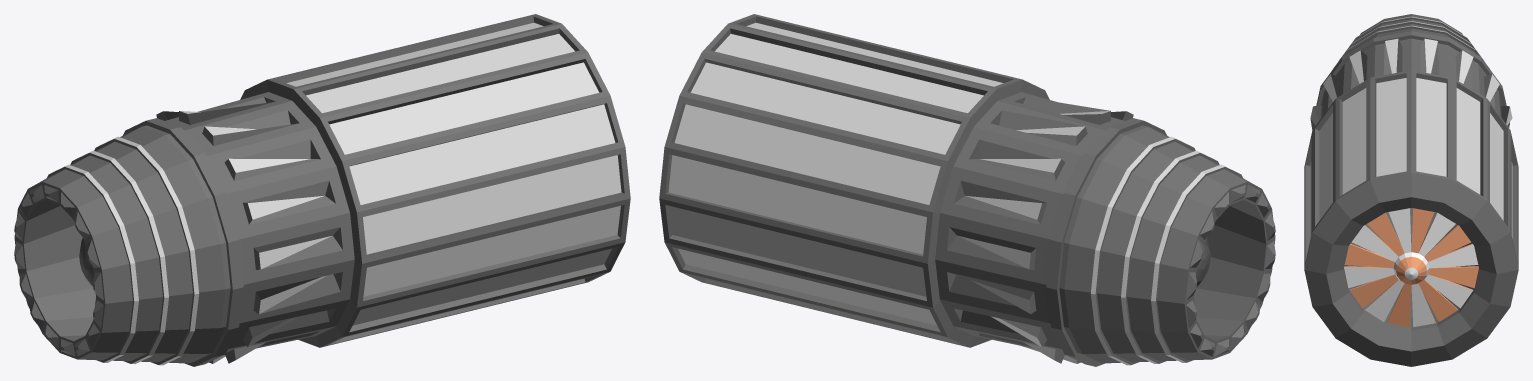
The model's file is engine_v2.1.fbx.
The picture shows the model from 3 angles, left to right: view 1: azimuth 30°, elevation 25°; view 2: azimuth 150°, elevation 25°; view 3: azimuth 270°, elevation 25°; orthographic projection. The views are drawn at different scales.
Parts seen in each view (by area): view 1: Общая часть.001; view 2: Общая часть.001; view 3: Общая часть.001, Передняя часть.001.
Boxes of the visible parts, box(x1,y1,x2,y2) form: Общая часть.001: box(14, 14, 630, 366); Общая часть.001: box(659, 14, 1275, 366); Общая часть.001: box(1304, 14, 1518, 366); Передняя часть.001: box(1344, 208, 1478, 327).
Bounding box in the file's own units: 4.96 × 2.27 × 2.27.
1 material, 1 textured.
